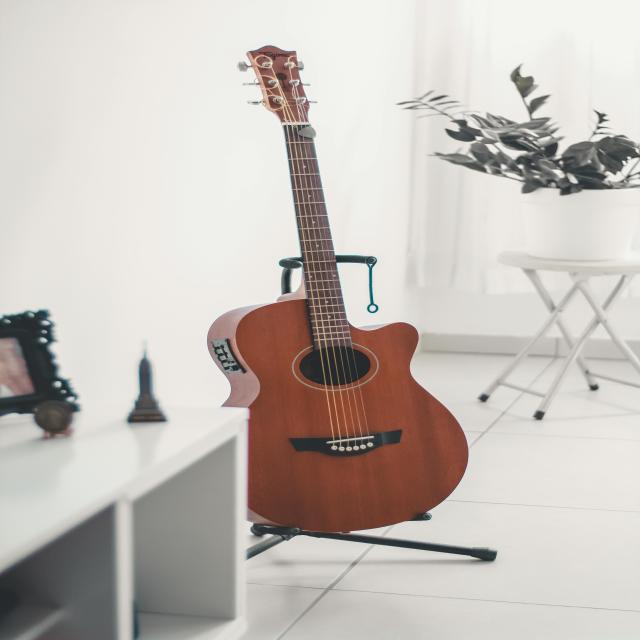guitar: (224, 46, 467, 539)
